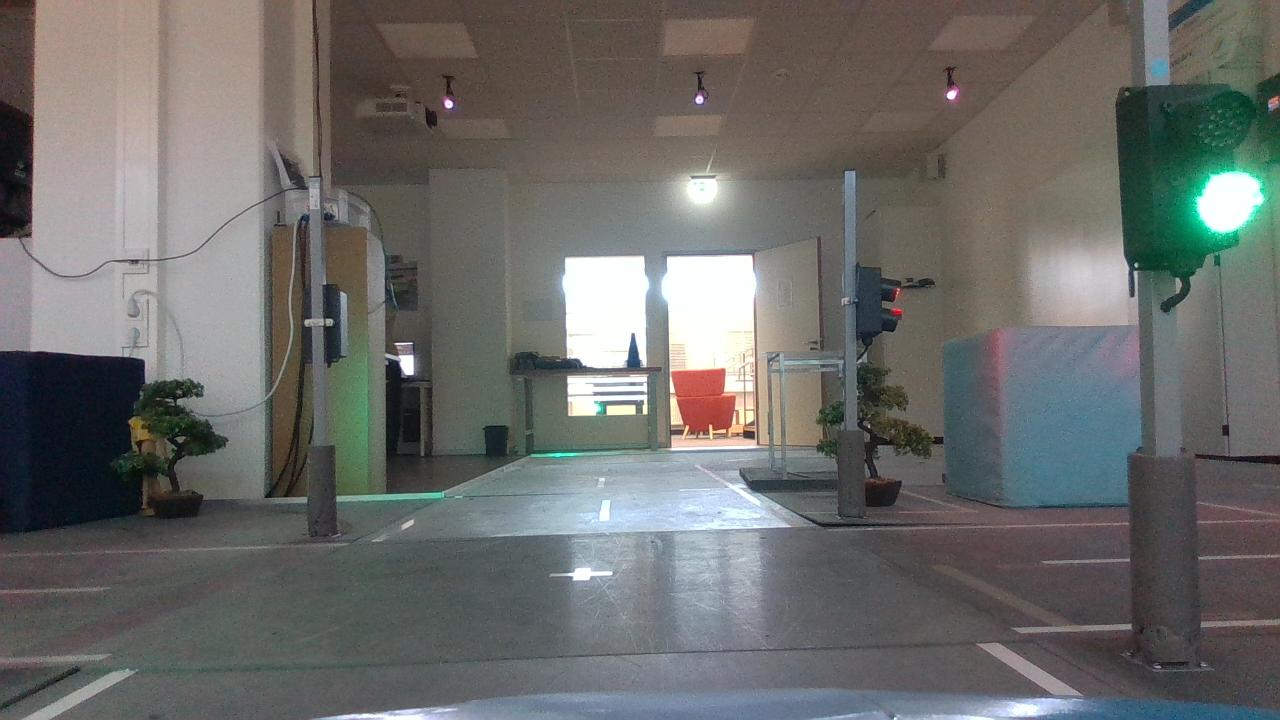traffic_light_green: (1091, 66, 1272, 294)
